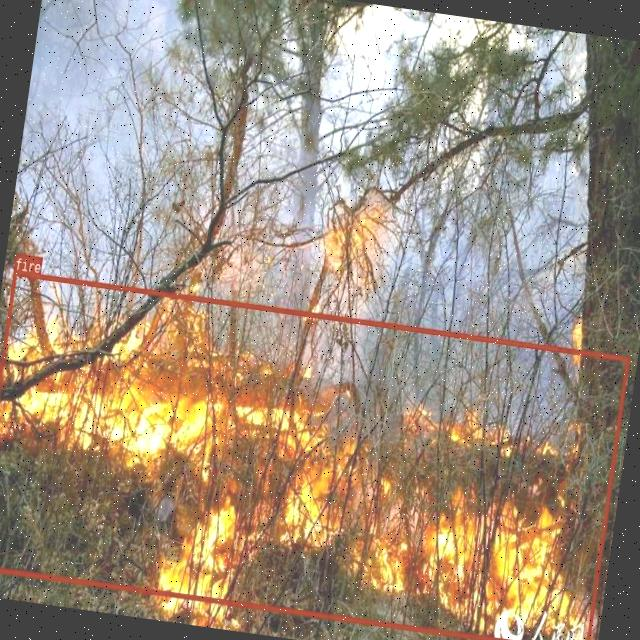fire: (0, 269, 629, 640)
